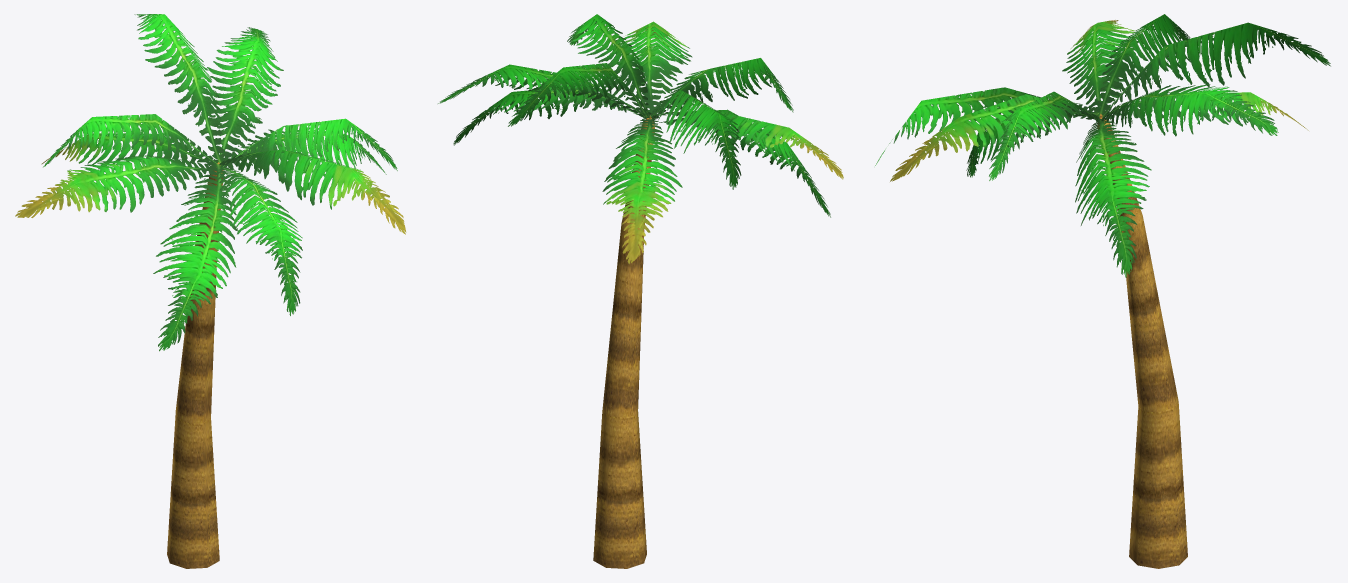
Rendered from palm-02.gltf.
3 views of the same model, side by side, from view 1: azimuth 30°, elevation 25°; view 2: azimuth 150°, elevation 25°; view 3: azimuth 270°, elevation 25° (orthographic). The views are drawn at different scales.
Parts seen in each view (by area): view 1: palm02; view 2: palm02; view 3: palm02.
Part boxes in pixels (bbox=[...]): palm02: bbox=[15, 14, 406, 568]; palm02: bbox=[438, 14, 843, 568]; palm02: bbox=[875, 14, 1330, 568].
Bounding box in the file's own units: 59.36 × 76 × 58.66.
Materials: 2 (2 with a texture image).
